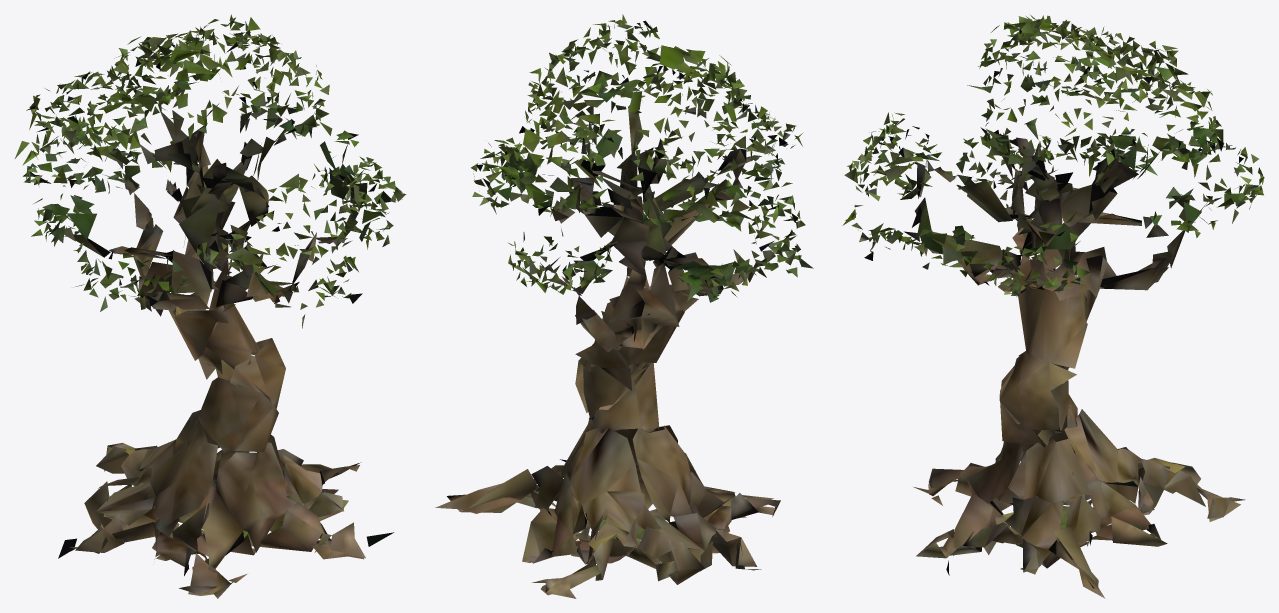
The model's file is tree_old_b_lod1.glb.
3 renders of one model, left to right at view 1: azimuth 30°, elevation 25°; view 2: azimuth 150°, elevation 25°; view 3: azimuth 270°, elevation 25°, orthographic.
Parts seen in each view (by area): view 1: tree_old_b_lod1; view 2: tree_old_b_lod1; view 3: tree_old_b_lod1.
Boxes of the visible parts, x1,y1,x2,y2 form: tree_old_b_lod1: [15, 14, 406, 598]; tree_old_b_lod1: [435, 14, 813, 598]; tree_old_b_lod1: [842, 15, 1264, 598].
Size of the model in its own units: 5.67 by 8.17 by 6.16.
1 material, 1 textured.
